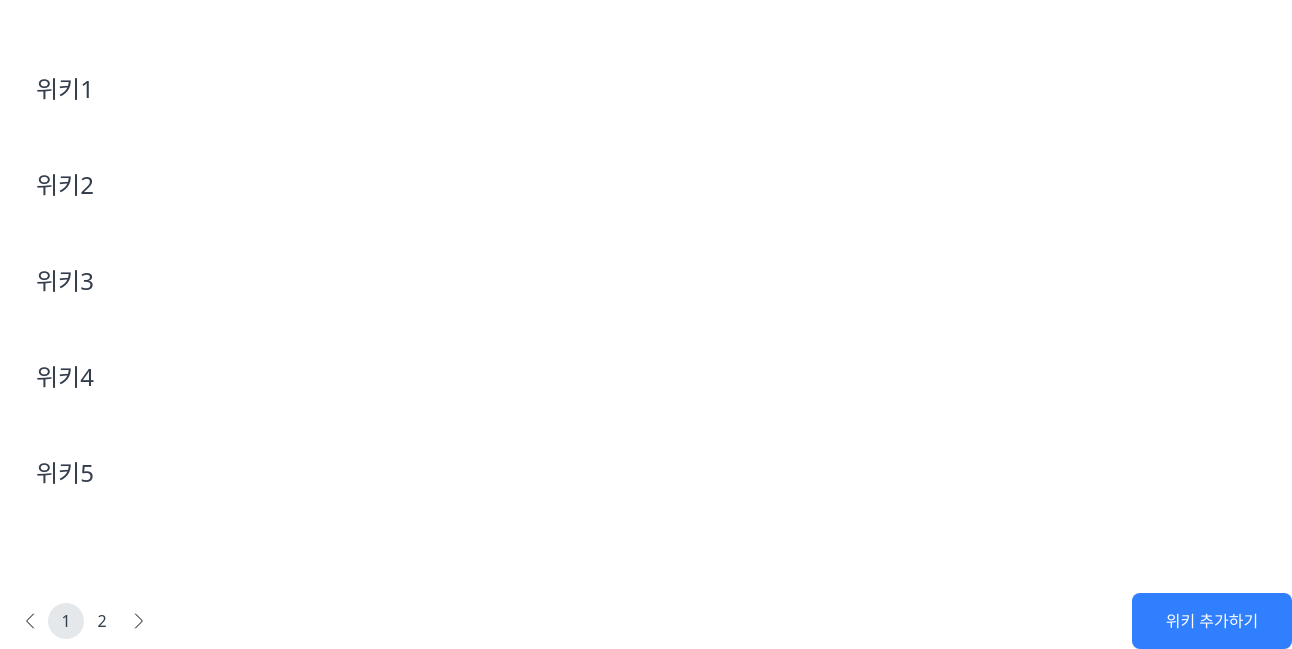
Test: Board 페이지 테스트 › wikiList 길이 6 › 다음 페이지 이동 버튼을 클릭하면 다음페이지의 게시물이 렌더링된다
(page scrolled)
Click the 4th button at (138, 621), box [120,603,156,639]
(page scrolled)
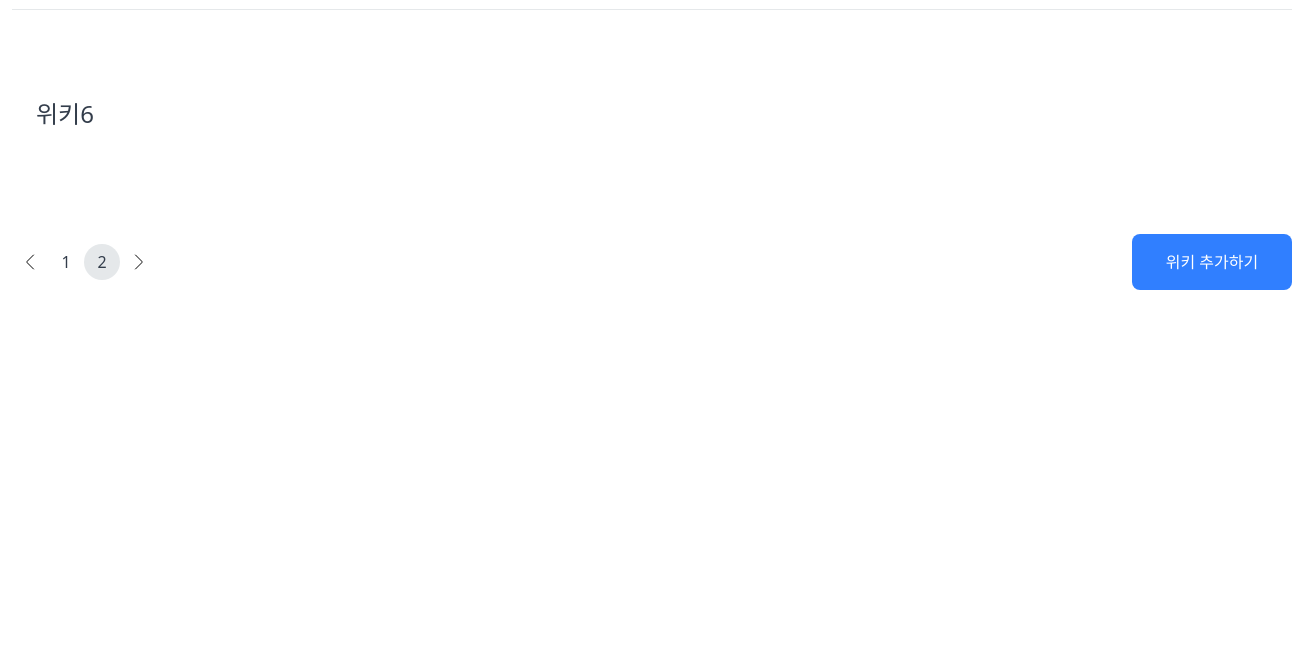
Now the link "위키6" is shown, box [36,97,94,130]
